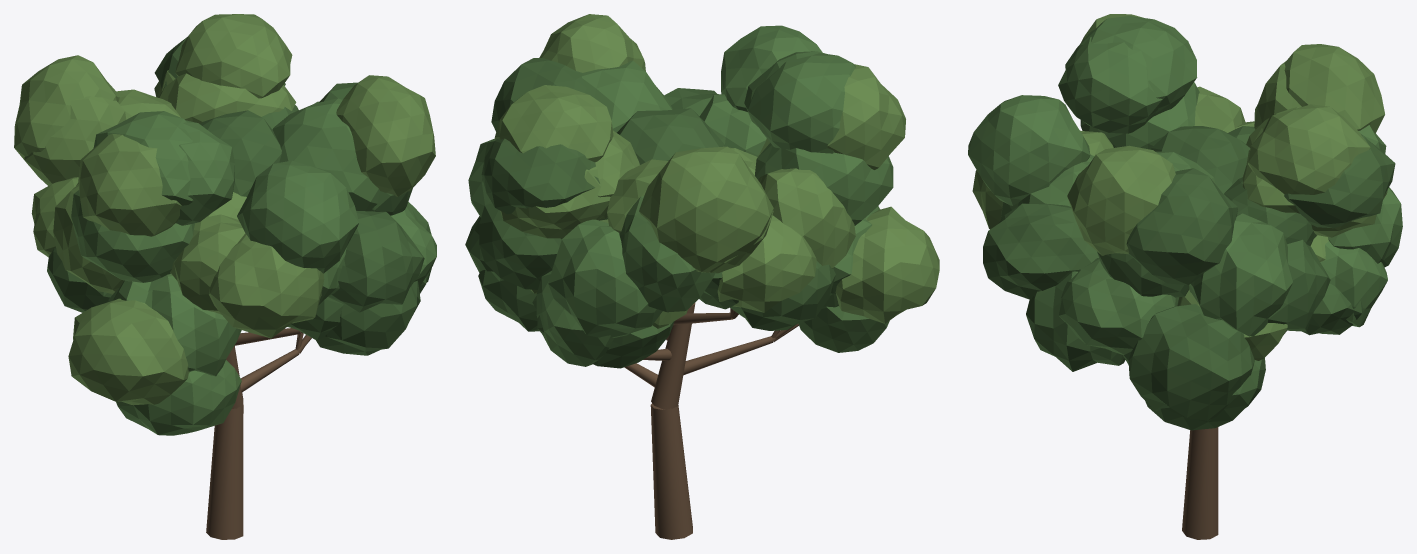
The model's file is tree-natural.glb.
3 renders of one model, left to right at view 1: azimuth 30°, elevation 25°; view 2: azimuth 150°, elevation 25°; view 3: azimuth 270°, elevation 25°, orthographic. The views are drawn at different scales.
Visible parts, largest first — view 1: OrganicCrown_3, OrganicCrown_2, OrganicCrown_1, TaperedTrunkAndBranches; view 2: OrganicCrown_3, OrganicCrown_2, OrganicCrown_1, TaperedTrunkAndBranches; view 3: OrganicCrown_1, OrganicCrown_2, OrganicCrown_3, TaperedTrunkAndBranches.
Part boxes in pixels (x1,y1,x2,y2): OrganicCrown_3: (14,14,435,405); OrganicCrown_2: (71,98,436,435); OrganicCrown_1: (47,37,431,355); TaperedTrunkAndBranches: (206,328,311,539); OrganicCrown_3: (494,14,939,328); OrganicCrown_2: (468,25,893,366); OrganicCrown_1: (465,58,835,368); TaperedTrunkAndBranches: (624,303,798,539); OrganicCrown_1: (983,126,1395,430); OrganicCrown_2: (968,16,1402,354); OrganicCrown_3: (972,14,1387,360); TaperedTrunkAndBranches: (1182,427,1218,539).
Bounding box in the file's own units: 4.77 × 5.36 × 4.61.
